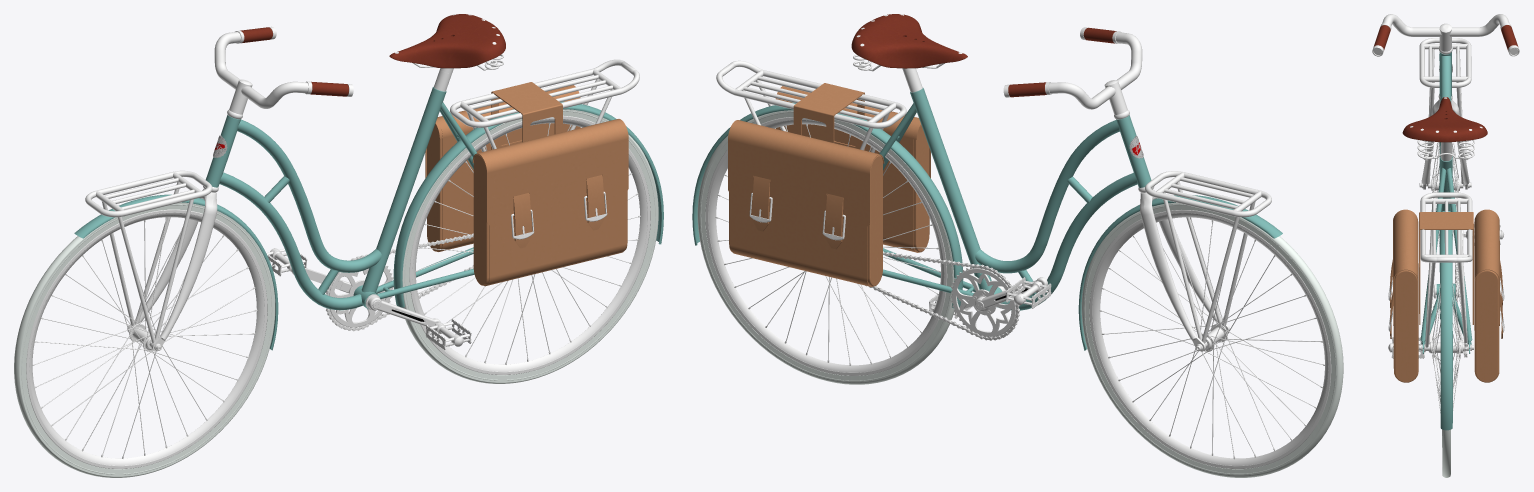
The model's file is speed-curve-product.glb.
The picture shows the model from 3 angles, left to right: view 1: azimuth 30°, elevation 25°; view 2: azimuth 150°, elevation 25°; view 3: azimuth 270°, elevation 25°; orthographic projection. The views are drawn at different scales.
Visible parts, largest first — view 1: Metal, LeatherBag, Frame.001, Rubber, FrontRack, BackRack, Saddle, Grip; view 2: Metal, LeatherBag, Frame.001, Rubber, FrontRack, BackRack, Saddle, Grip; view 3: LeatherBag, Metal, Frame.001, BackRack, Saddle, FrontRack, Grip, Rubber, leatherBagMetal.
Boxes of the visible parts, bbox=[...] form: Metal: bbox=[26, 14, 650, 469]; LeatherBag: bbox=[425, 82, 628, 286]; Frame.001: bbox=[74, 87, 663, 350]; Rubber: bbox=[14, 109, 658, 477]; FrontRack: bbox=[85, 170, 212, 343]; BackRack: bbox=[450, 59, 639, 151]; Saddle: bbox=[389, 14, 505, 68]; Grip: bbox=[240, 27, 348, 96]; Metal: bbox=[705, 14, 1331, 469]; LeatherBag: bbox=[728, 83, 930, 286]; Frame.001: bbox=[692, 88, 1282, 350]; Rubber: bbox=[697, 110, 1343, 477]; FrontRack: bbox=[1145, 171, 1271, 343]; BackRack: bbox=[716, 60, 906, 152]; Saddle: bbox=[851, 14, 967, 68]; Grip: bbox=[1008, 27, 1116, 97]; LeatherBag: bbox=[1390, 209, 1503, 382]; Metal: bbox=[1372, 14, 1519, 435]; Frame.001: bbox=[1420, 52, 1472, 430]; BackRack: bbox=[1420, 192, 1472, 347]; Saddle: bbox=[1402, 97, 1487, 142]; FrontRack: bbox=[1419, 38, 1471, 186]; Grip: bbox=[1373, 25, 1518, 49]; Rubber: bbox=[1442, 429, 1450, 477]; leatherBagMetal: bbox=[1388, 277, 1504, 331].
Size of the model in its own units: 1.82 by 1.04 by 0.4122.
11 materials, 2 textured.
